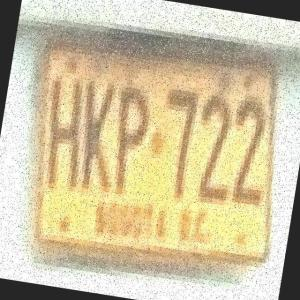Plate: (1, 0, 300, 292)
